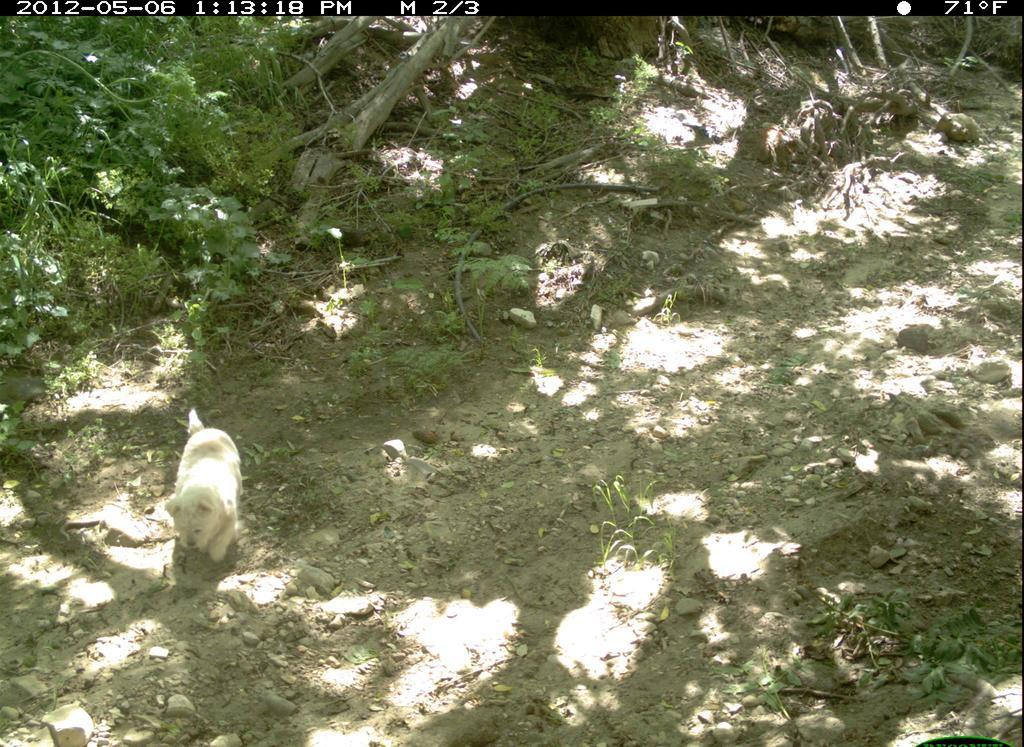dog: (157, 404, 255, 575)
